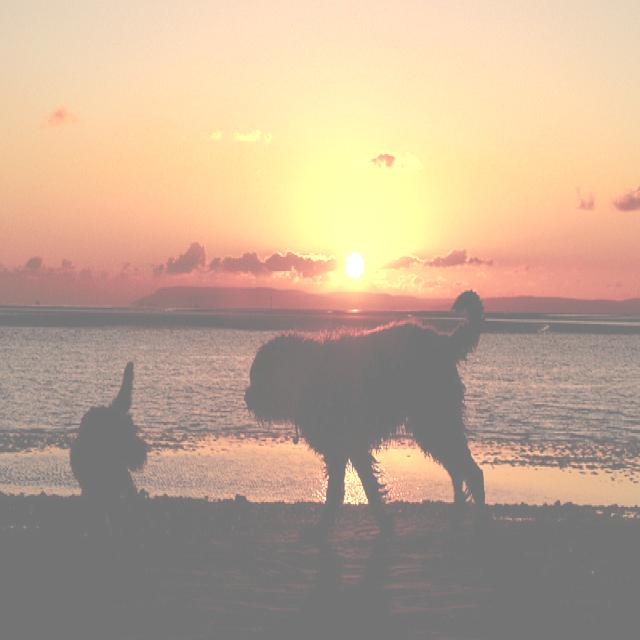Dog: (190, 333, 571, 566), (53, 319, 159, 553)
